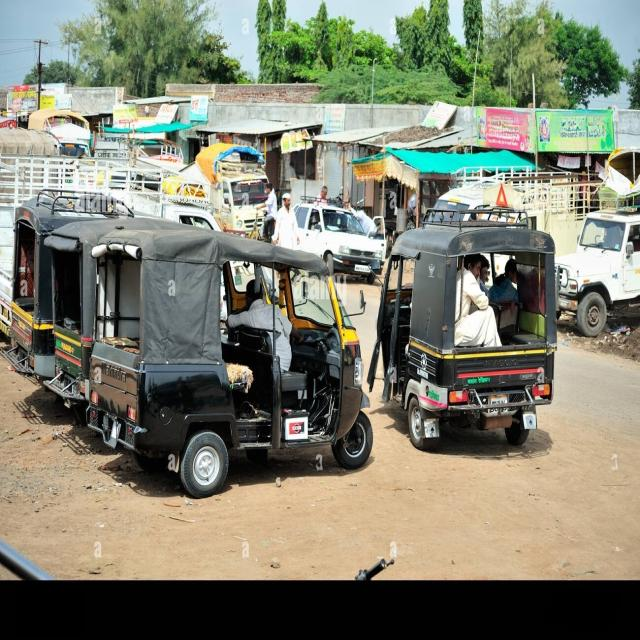autorickshaw: (88, 225, 372, 497), (368, 208, 556, 447)
truck: (195, 143, 268, 234)
